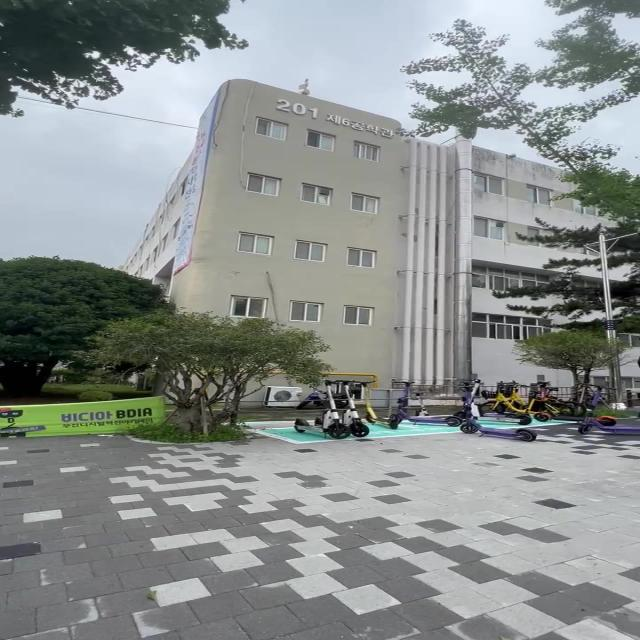building: (190, 81, 422, 313)
